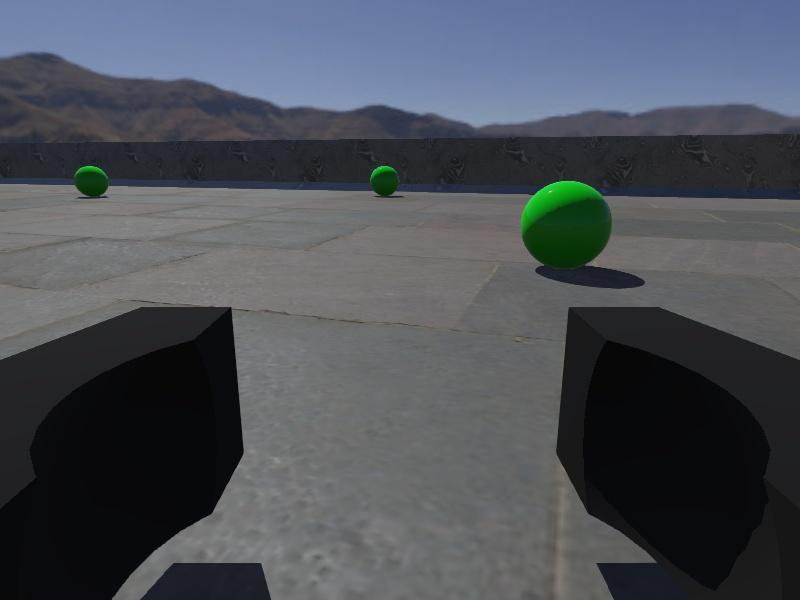green ball: (519, 178, 613, 270), (73, 165, 109, 198), (368, 165, 401, 197)
